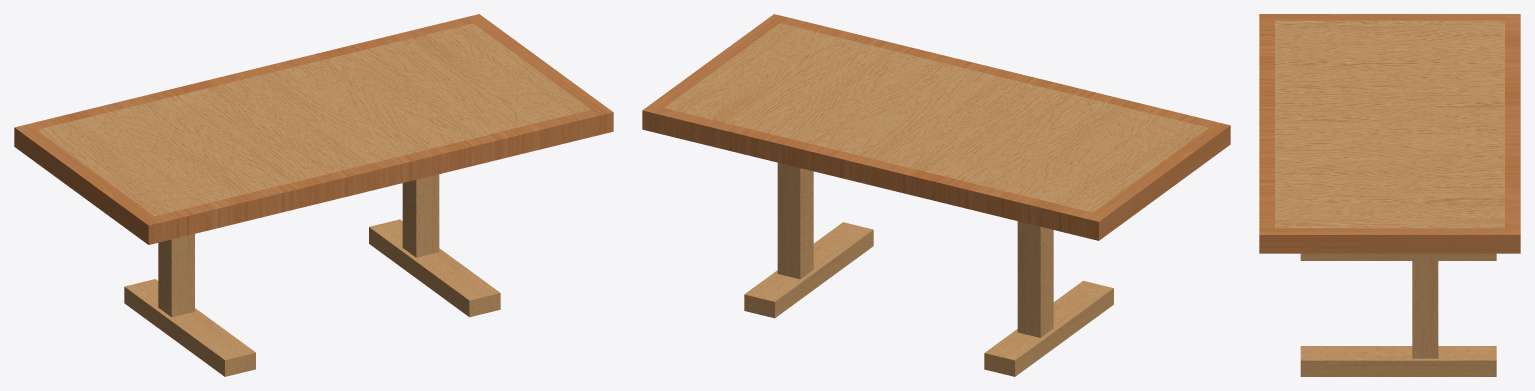
Rendered from conference table2_A.FBX.
3 views of the same model, side by side, from view 1: azimuth 30°, elevation 25°; view 2: azimuth 150°, elevation 25°; view 3: azimuth 270°, elevation 25° (orthographic). The views are drawn at different scales.
Parts seen in each view (by area): view 1: conference table2_A; view 2: conference table2_A; view 3: conference table2_A.
Part boxes in pixels (x1,y1,x2,y2): conference table2_A: (14, 14, 613, 376); conference table2_A: (642, 14, 1230, 376); conference table2_A: (1259, 14, 1520, 376).
Bounding box in the file's own units: 20 × 7.84 × 10.
